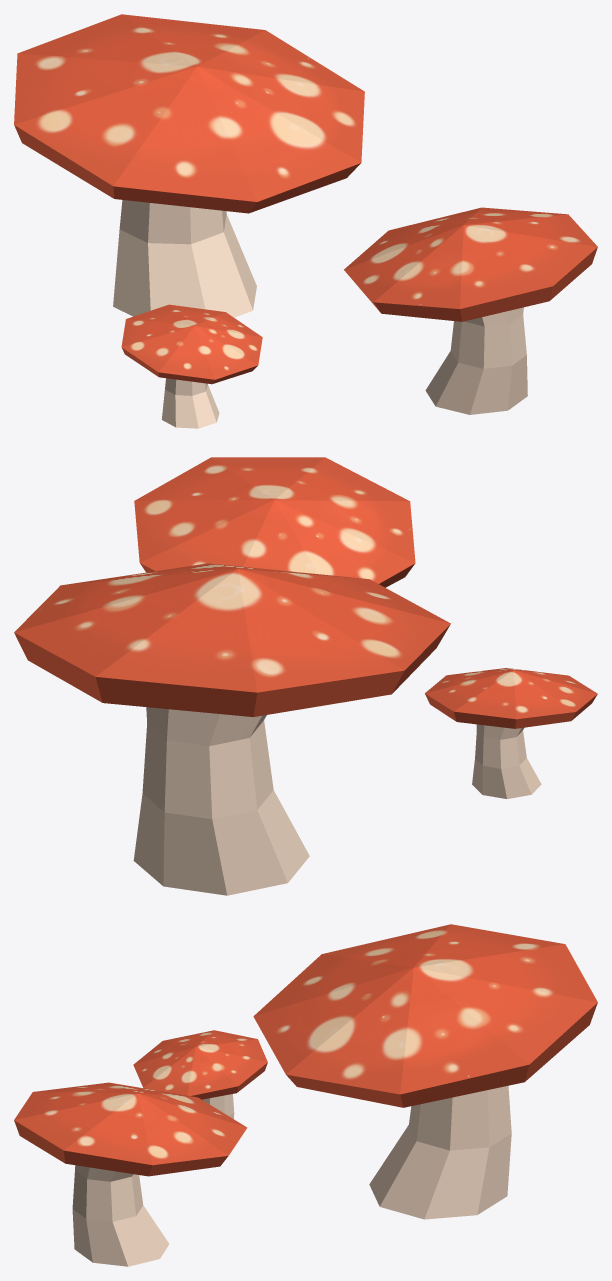
Rendered from plant_mushroom.fbx.
The picture shows the model from 3 angles, top to bottom: view 1: azimuth 30°, elevation 25°; view 2: azimuth 150°, elevation 25°; view 3: azimuth 270°, elevation 25°; orthographic projection. The views are drawn at different scales.
Parts seen in each view (by area): view 1: Mushrooms; view 2: Mushrooms; view 3: Mushrooms.
Part boxes in pixels (x1,y1,x2,y2): Mushrooms: (14, 14, 597, 428); Mushrooms: (14, 457, 597, 895); Mushrooms: (14, 924, 597, 1266).
Bounding box in the file's own units: 16.35 × 10.1 × 21.55.
